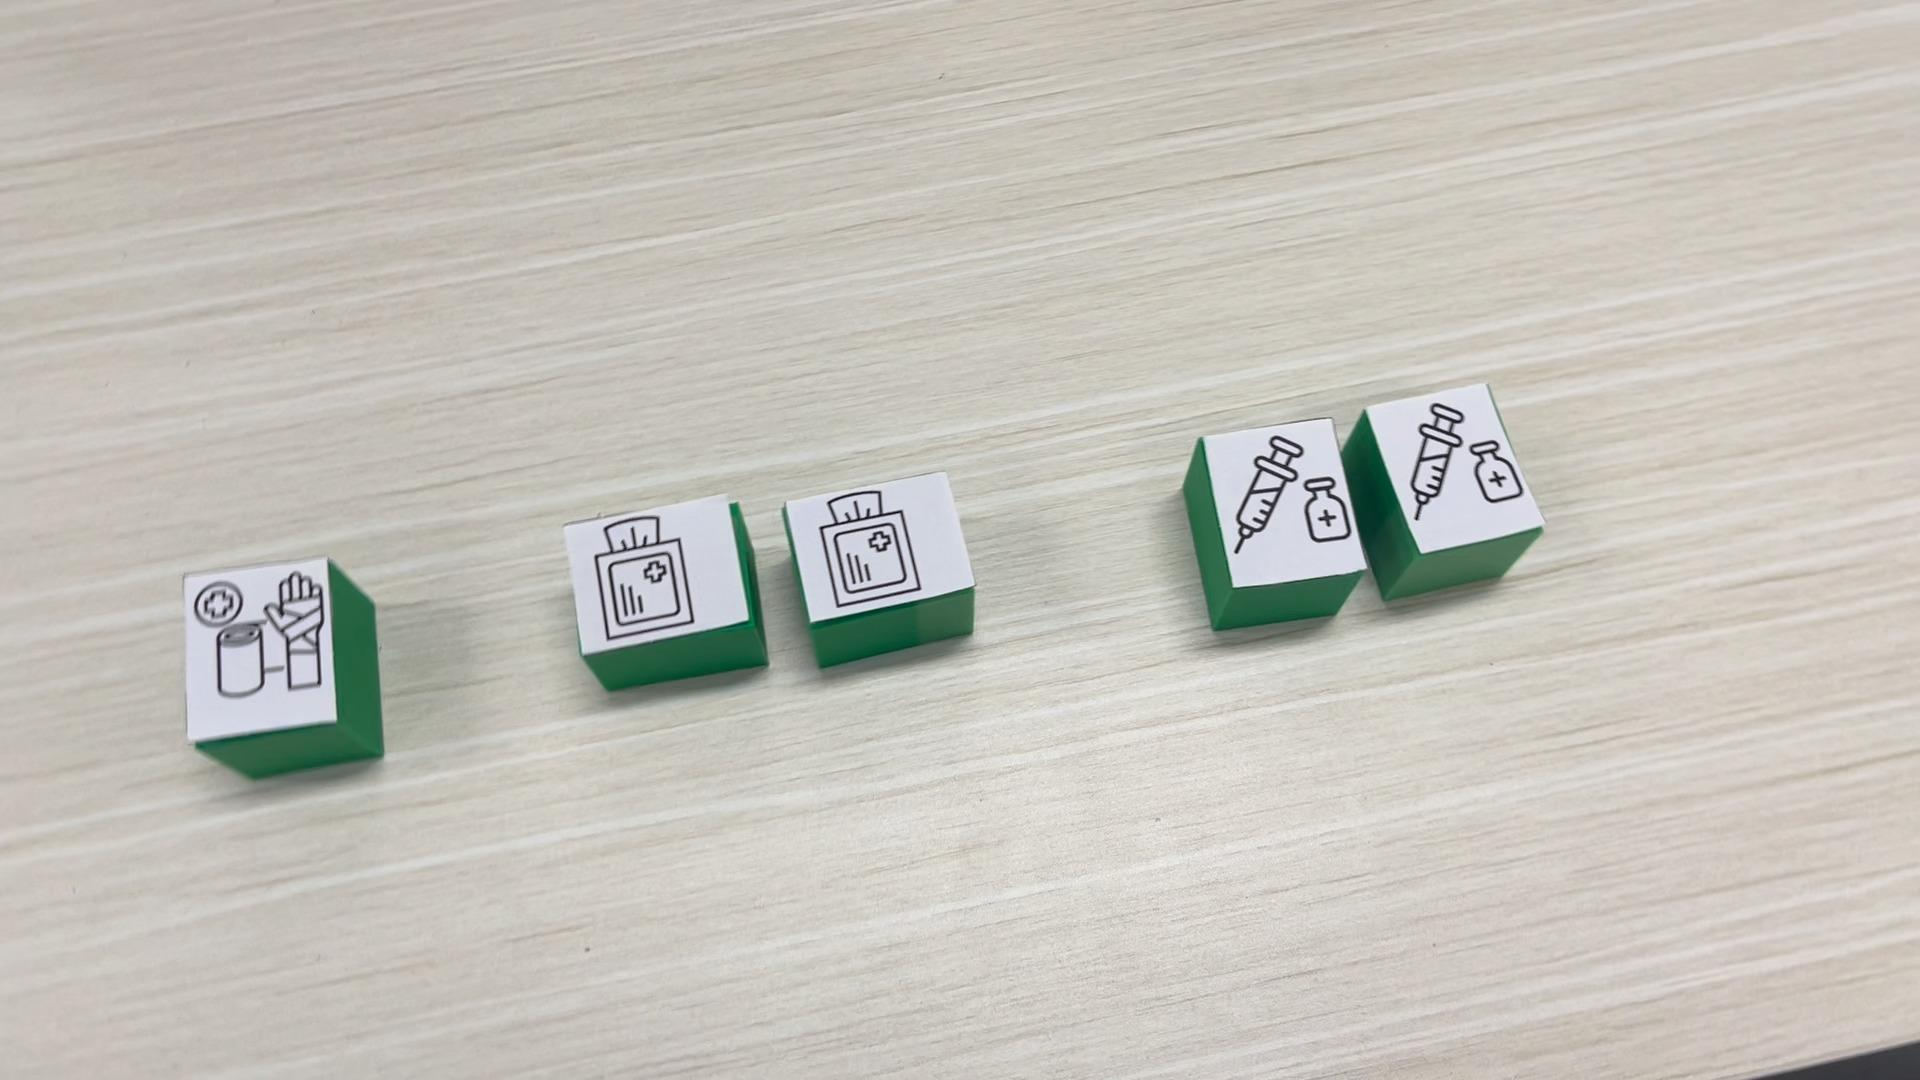Bandages: (182, 555, 384, 781)
Gauze: (770, 469, 977, 669), (560, 493, 767, 691)
antiseptic cream: (1183, 415, 1369, 633), (1365, 378, 1544, 603)
